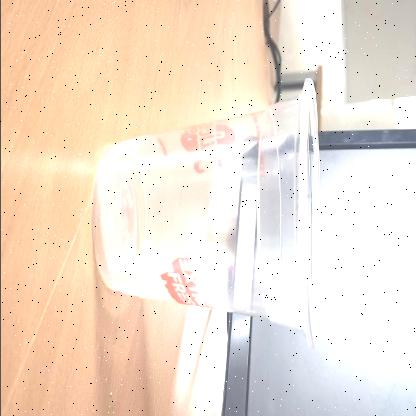Others: (94, 78, 320, 342)
